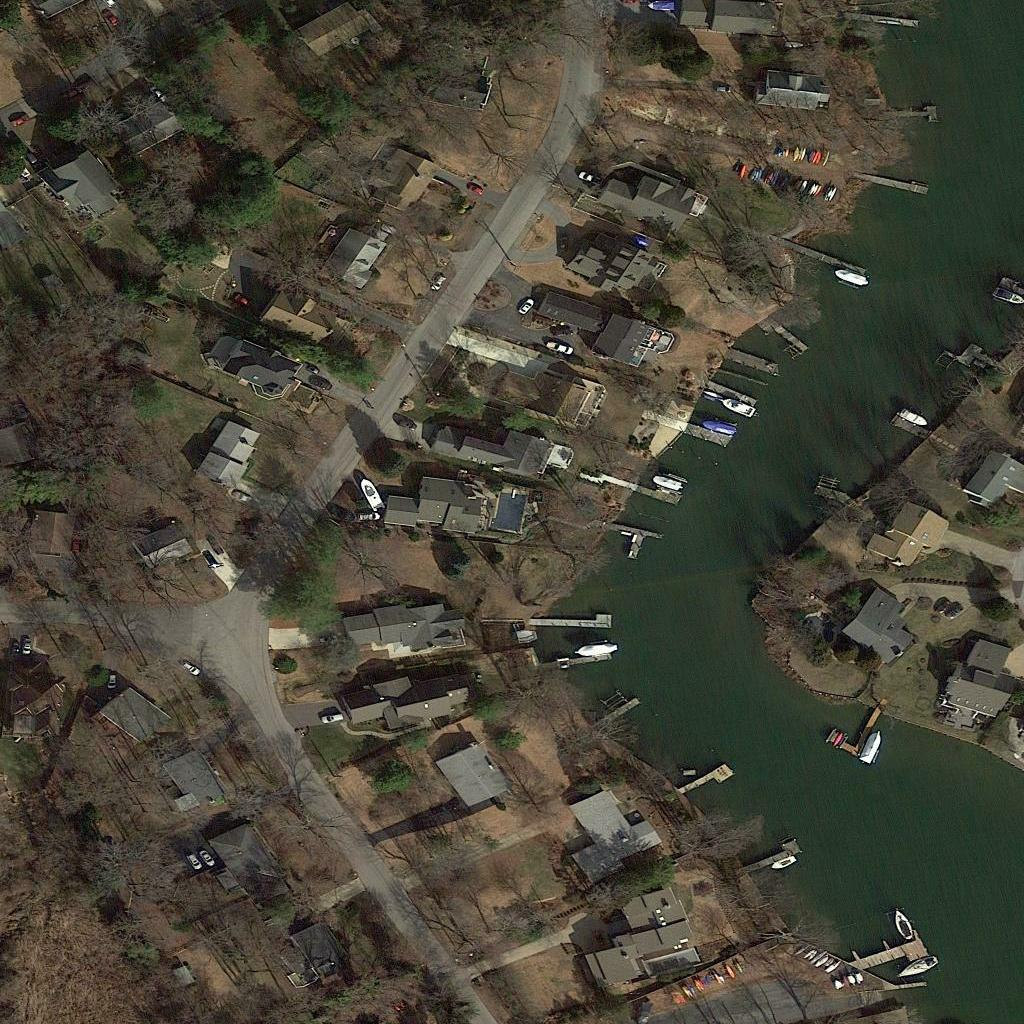harbor: (840, 929, 930, 980), (934, 333, 1000, 386), (782, 239, 867, 277), (583, 683, 644, 733), (595, 521, 663, 564), (836, 701, 883, 757), (755, 315, 810, 360), (742, 838, 803, 874), (679, 763, 734, 802), (724, 347, 782, 377), (812, 473, 857, 508), (530, 611, 612, 630), (541, 651, 611, 673), (705, 380, 757, 408), (870, 173, 931, 195), (633, 479, 683, 505), (891, 413, 932, 442), (684, 422, 731, 447), (850, 13, 920, 28), (717, 368, 770, 387), (888, 107, 939, 123)
ship: (892, 954, 941, 980), (715, 394, 757, 419), (357, 477, 385, 512), (857, 729, 884, 765), (833, 266, 870, 289), (891, 907, 915, 941), (897, 407, 930, 430), (702, 418, 737, 438), (651, 473, 684, 492), (572, 644, 619, 657), (770, 855, 798, 871), (823, 958, 843, 975), (808, 950, 828, 965), (647, 2, 676, 12), (702, 388, 723, 400), (724, 963, 737, 981), (814, 954, 830, 968), (785, 41, 807, 48)
